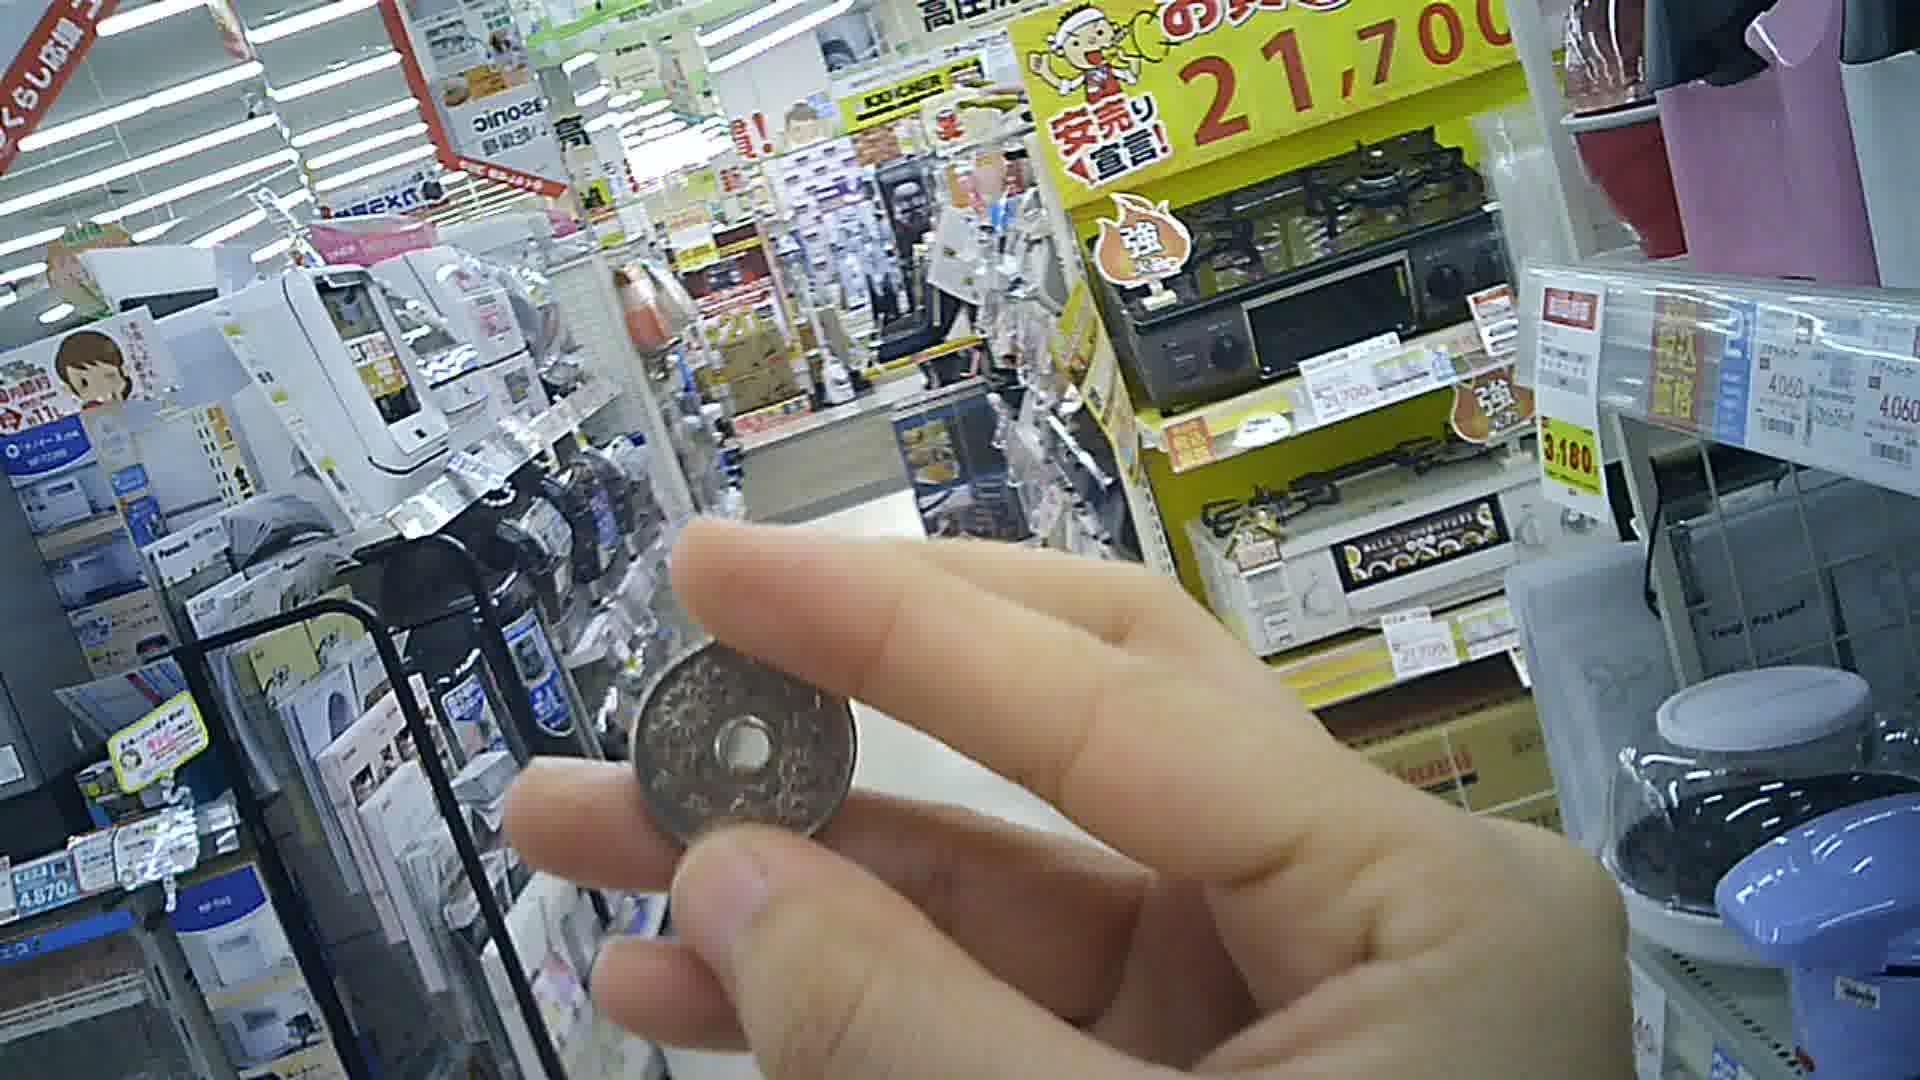50 Yen: (625, 618, 874, 861)
